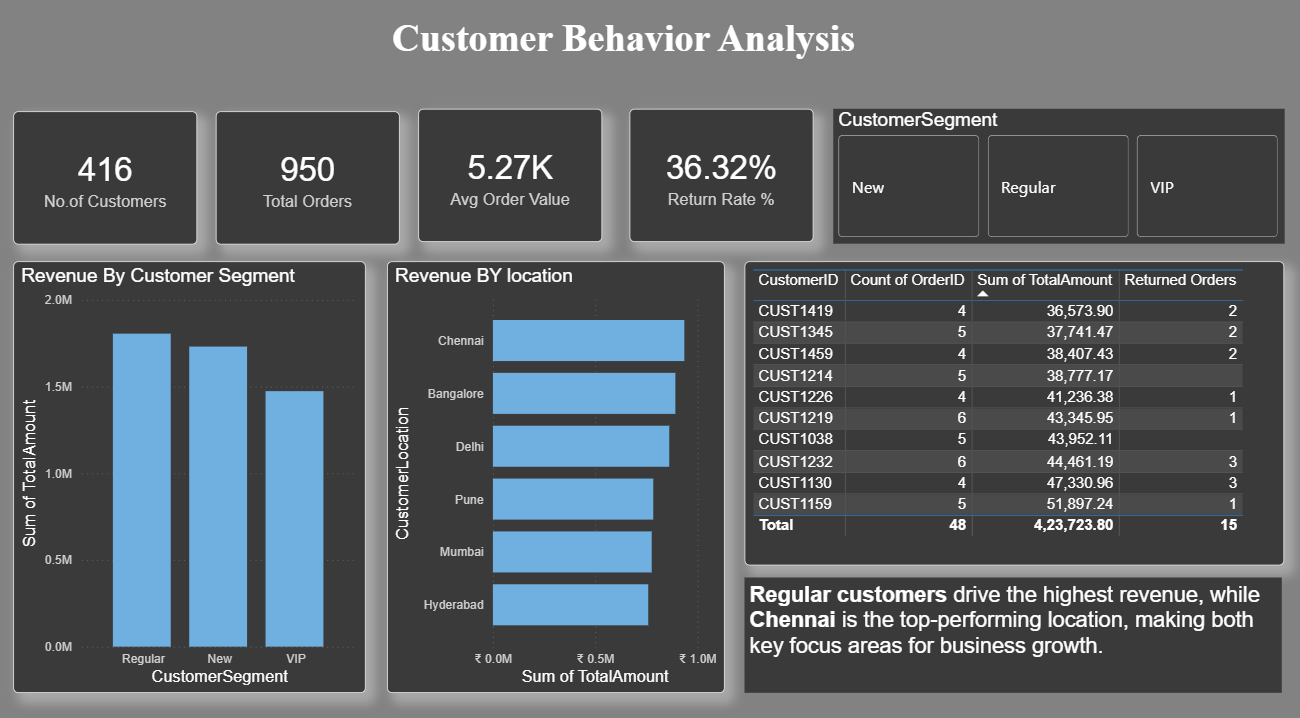

This screenshot's page, from the dashboard's own definition file:
{"tool":"powerbi","page":{"name":"Customer Purchashing Behavior","canvas":[1280,720],"ordinal":4},"visuals":[{"type":"card","fields":{"Values":["Count(ecommerce_messy_data (1).CustomerID)"]},"box":[16.5,118,180,130],"z":0},{"type":"clusteredColumnChart","title":"Revenue By Customer Segment","fields":{"Category":["ecommerce_messy_data (1).CustomerSegment"],"Y":["Sum(ecommerce_messy_data (1).TotalAmount)"]},"box":[16.5,264.8,344.4,422.6],"z":1000},{"type":"barChart","title":"Revenue BY location","fields":{"Category":["ecommerce_messy_data (1).CustomerLocation"],"Y":["Sum(ecommerce_messy_data (1).TotalAmount)"]},"box":[381.5,264.8,330.7,422.6],"z":2000},{"type":"card","fields":{"Values":["Count(ecommerce_messy_data (1).OrderID)"]},"box":[214.1,118,179.8,130.4],"z":3000},{"type":"card","fields":{"Values":["ecommerce_messy_data (1).Avg Order Value"]},"box":[411.7,116.6,179.8,130.4],"z":4000},{"type":"tableEx","fields":{"Values":["ecommerce_messy_data (1).CustomerID","ecommerce_messy_data (1).OrderID","Sum(ecommerce_messy_data (1).TotalAmount)","ecommerce_messy_data (1).Returned Orders"]},"box":[731.4,264.8,528.3,297.8],"z":5000},{"type":"card","fields":{"Values":["ecommerce_messy_data (1).Return Rate %"]},"box":[618.9,116.6,179.8,130.4],"z":6000},{"type":"advancedSlicerVisual","fields":{"Values":["ecommerce_messy_data (1).CustomerSegment"]},"box":[817.8,116.6,441.9,131.7],"z":7000},{"type":"textbox","box":[731.4,575,525.6,112.5],"z":8000},{"type":"textbox","box":[381.5,20.6,474.8,53.5],"z":9000}]}

Visuals, with their boxes in screenshot pixels (x1, y1, x2, y2), scaled from the page's 1280x720 canvas onto the 1300x718 screenshot:
card - Count(ecommerce_messy_data (1).CustomerID): (17,118,200,247)
"Revenue By Customer Segment" clusteredColumnChart: (17,264,367,685)
"Revenue BY location" barChart: (387,264,723,685)
card - Count(ecommerce_messy_data (1).OrderID): (217,118,400,248)
card - ecommerce_messy_data (1).Avg Order Value: (418,116,601,246)
tableEx - ecommerce_messy_data (1).CustomerID x ecommerce_messy_data (1).OrderID: (743,264,1279,561)
card - ecommerce_messy_data (1).Return Rate %: (629,116,811,246)
advancedSlicerVisual - ecommerce_messy_data (1).CustomerSegment: (831,116,1279,248)
textbox: (743,573,1277,686)
textbox: (387,21,870,74)
